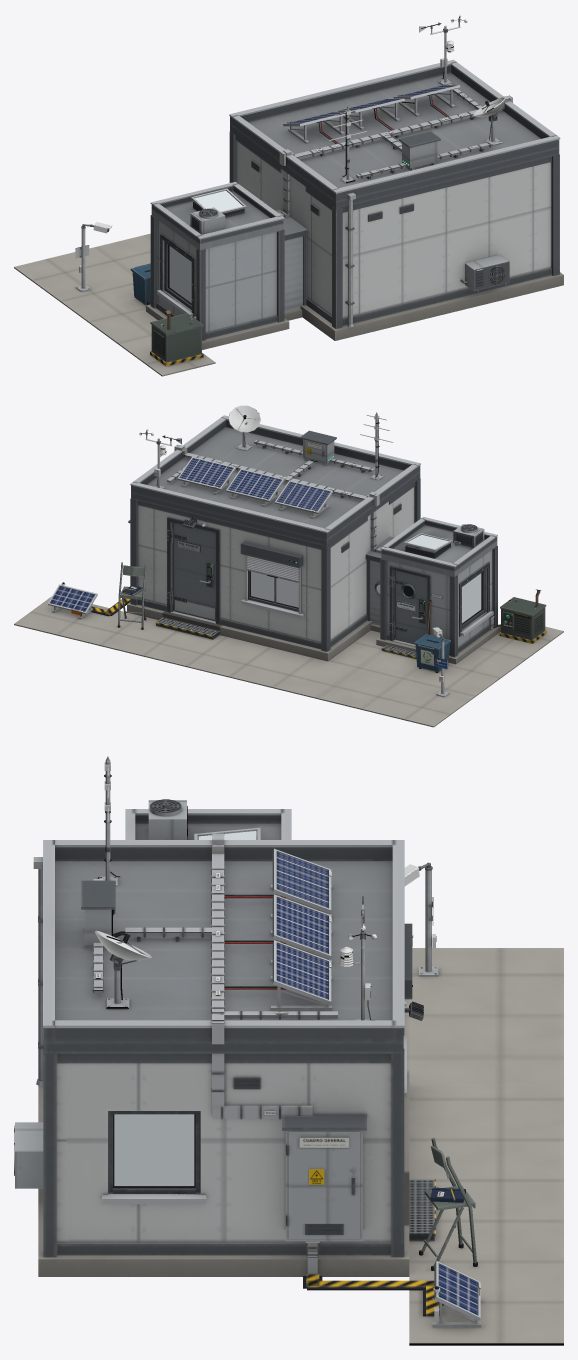
Rendered from casa_ingeniero.fbx.
3 renders of one model, top to bottom at view 1: azimuth 30°, elevation 25°; view 2: azimuth 150°, elevation 25°; view 3: azimuth 270°, elevation 25°, orthographic. The views are drawn at different scales.
Visible parts, largest first — view 1: casa_ingeniero_estructura, casa_ingeniero_cristal, casa_ingeniero_antena_parabolica, casa_ingeniero_antena_dipolo, casa_ingeniero_estacion_meteo; view 2: casa_ingeniero_estructura, casa_ingeniero_puerta_principal, casa_ingeniero_cristal, casa_ingeniero_puerta_lab, casa_ingeniero_antena_parabolica, casa_ingeniero_persiana, casa_ingeniero_antena_dipolo; view 3: casa_ingeniero_estructura, casa_ingeniero_cristal, casa_ingeniero_antena_parabolica, casa_ingeniero_estacion_meteo, casa_ingeniero_antena_dipolo.
Boxes of the visible parts, x1,y1,x2,y2 form: casa_ingeniero_estructura: [14, 59, 563, 376]; casa_ingeniero_cristal: [169, 190, 242, 302]; casa_ingeniero_antena_parabolica: [473, 97, 505, 144]; casa_ingeniero_antena_dipolo: [329, 106, 366, 183]; casa_ingeniero_estacion_meteo: [430, 21, 460, 84]; casa_ingeniero_estructura: [14, 415, 563, 727]; casa_ingeniero_puerta_principal: [171, 523, 215, 621]; casa_ingeniero_cristal: [251, 534, 481, 622]; casa_ingeniero_puerta_lab: [393, 571, 426, 643]; casa_ingeniero_antena_parabolica: [228, 405, 260, 450]; casa_ingeniero_persiana: [247, 555, 298, 582]; casa_ingeniero_antena_dipolo: [360, 412, 393, 479]; casa_ingeniero_estructura: [14, 799, 563, 1345]; casa_ingeniero_cristal: [114, 831, 256, 1185]; casa_ingeniero_antena_parabolica: [94, 930, 151, 1009]; casa_ingeniero_estacion_meteo: [340, 914, 374, 1020]; casa_ingeniero_antena_dipolo: [98, 756, 120, 885].
Bounding box in the file's own units: 24.2 × 10.23 × 14.23.
3 materials, 1 textured.
